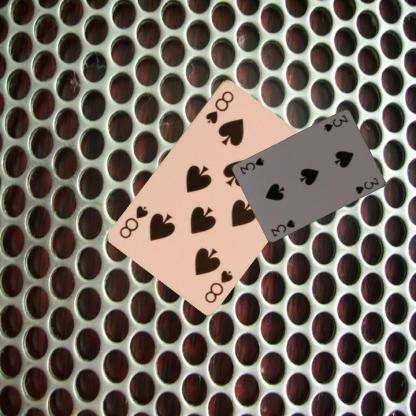3s: (321, 111, 349, 133), (268, 216, 296, 237)
8s: (203, 88, 235, 125), (202, 267, 234, 304)
